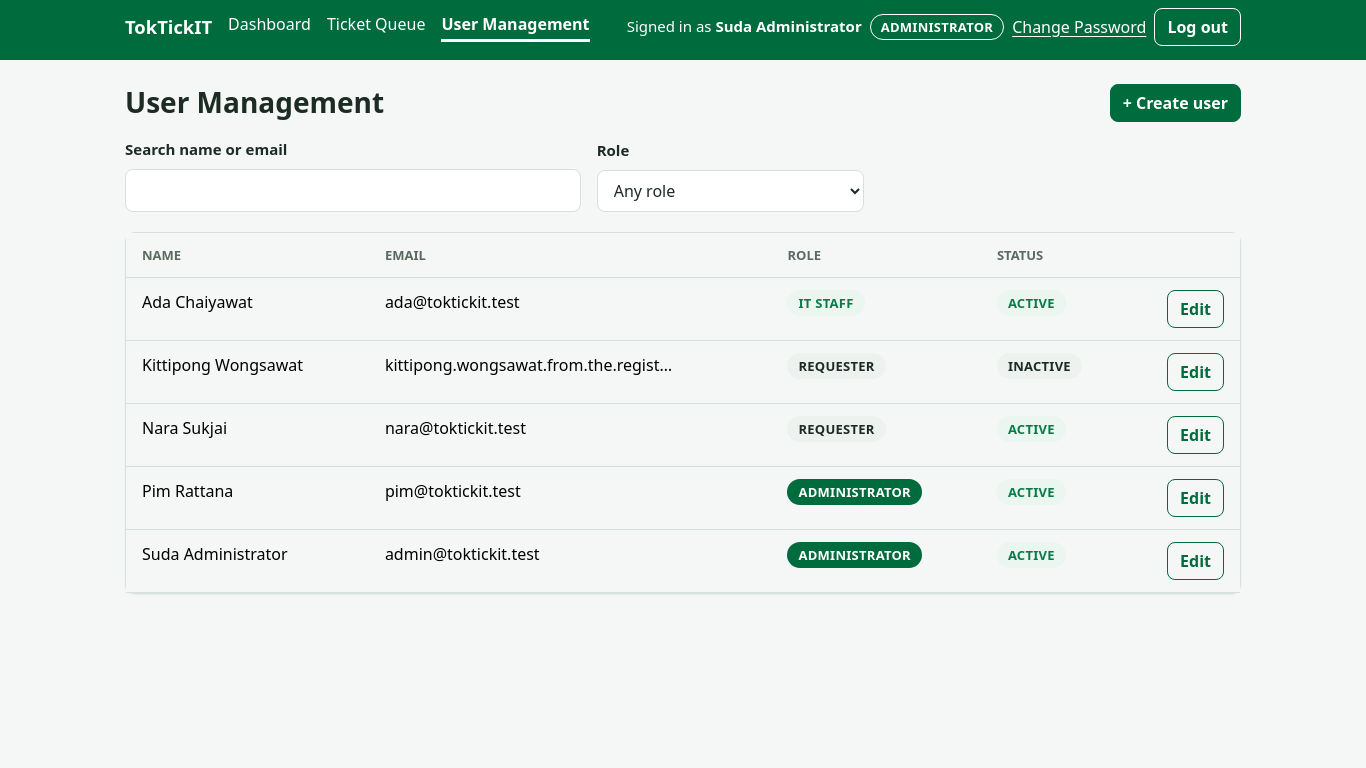
Test: UI-29 the role and activation controls (BR-22, BR-47) › refuses to submit without a role or an activation state, naming both, and sends nothing
Click the button "+ Create user": (1175, 103) [1110,84,1241,122]
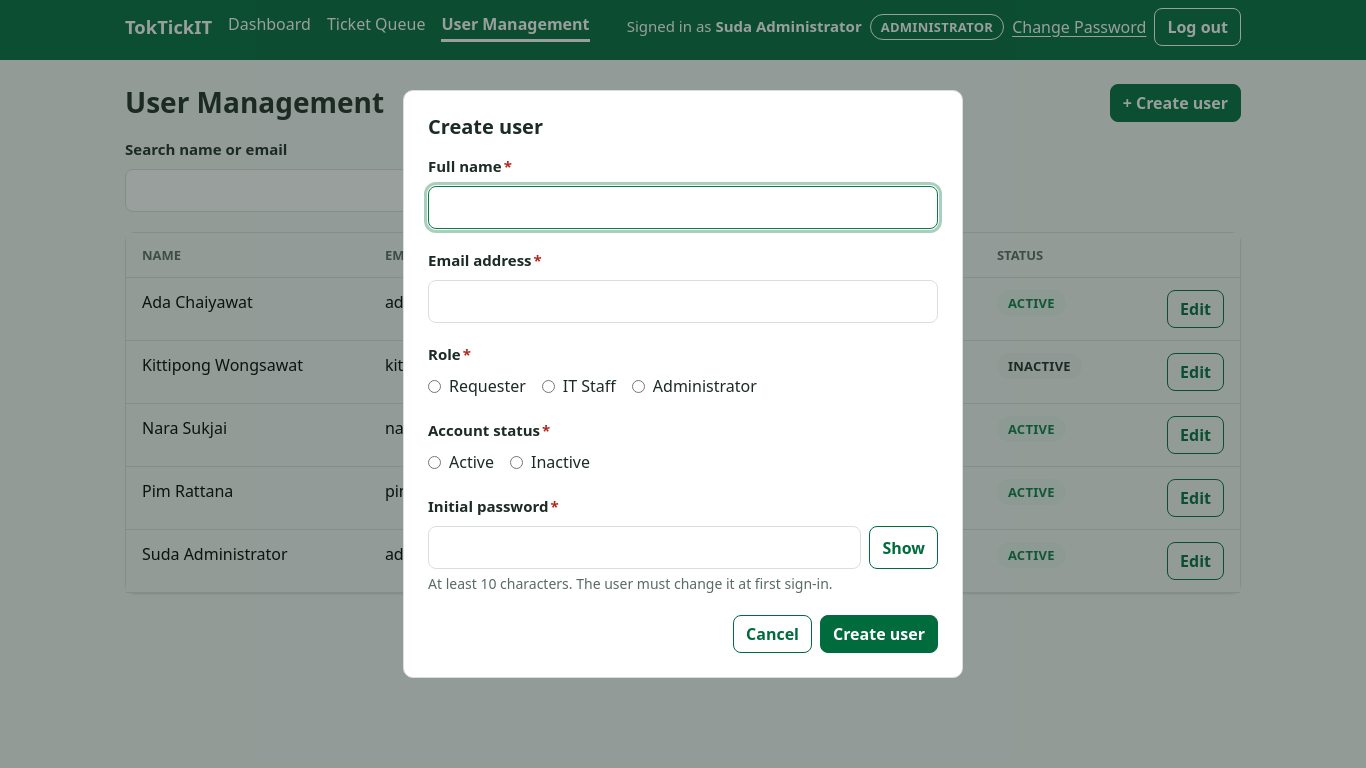
In the field labelled "Full name*": (683, 208) [428,186,938,229], type "Malee Srisuk"
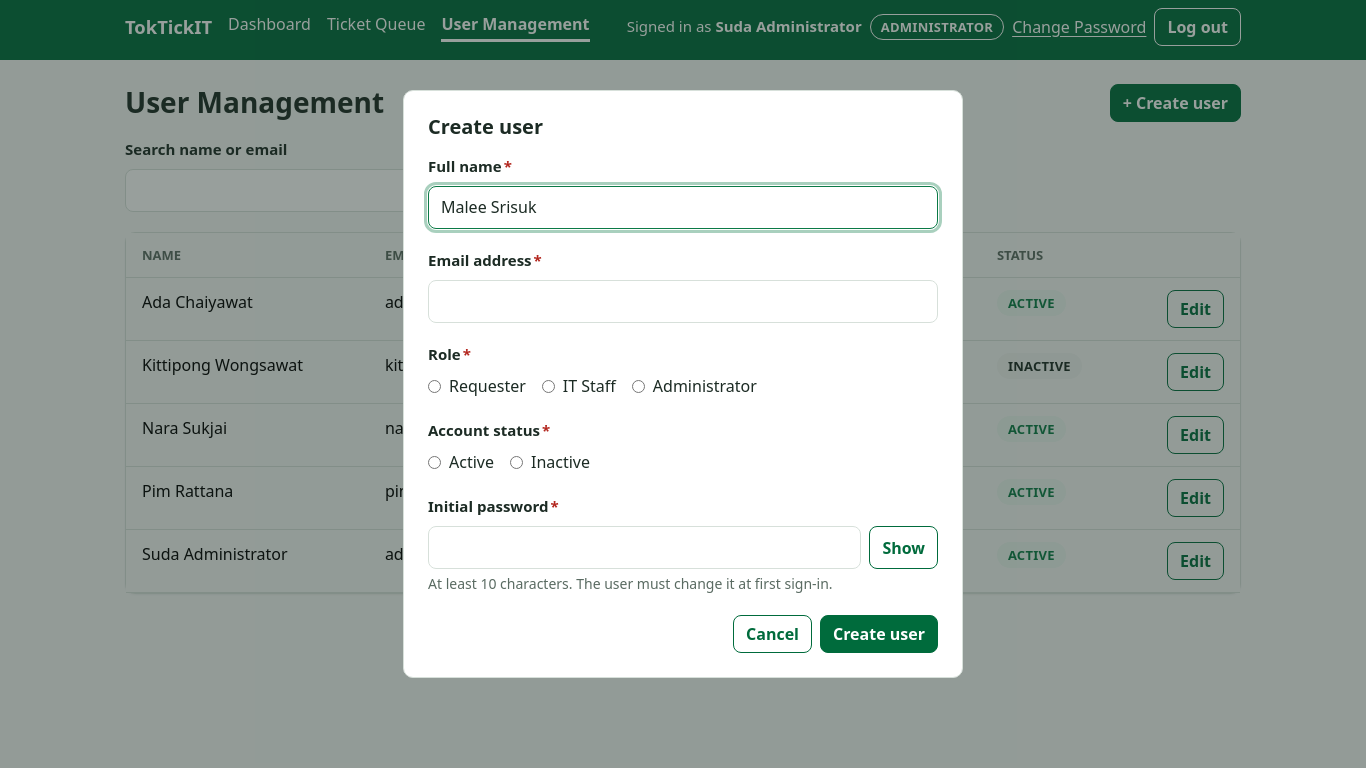
In the field labelled "Email address*": (683, 302) [428,280,938,323], type "Malee.Srisuk@toktickit.test"
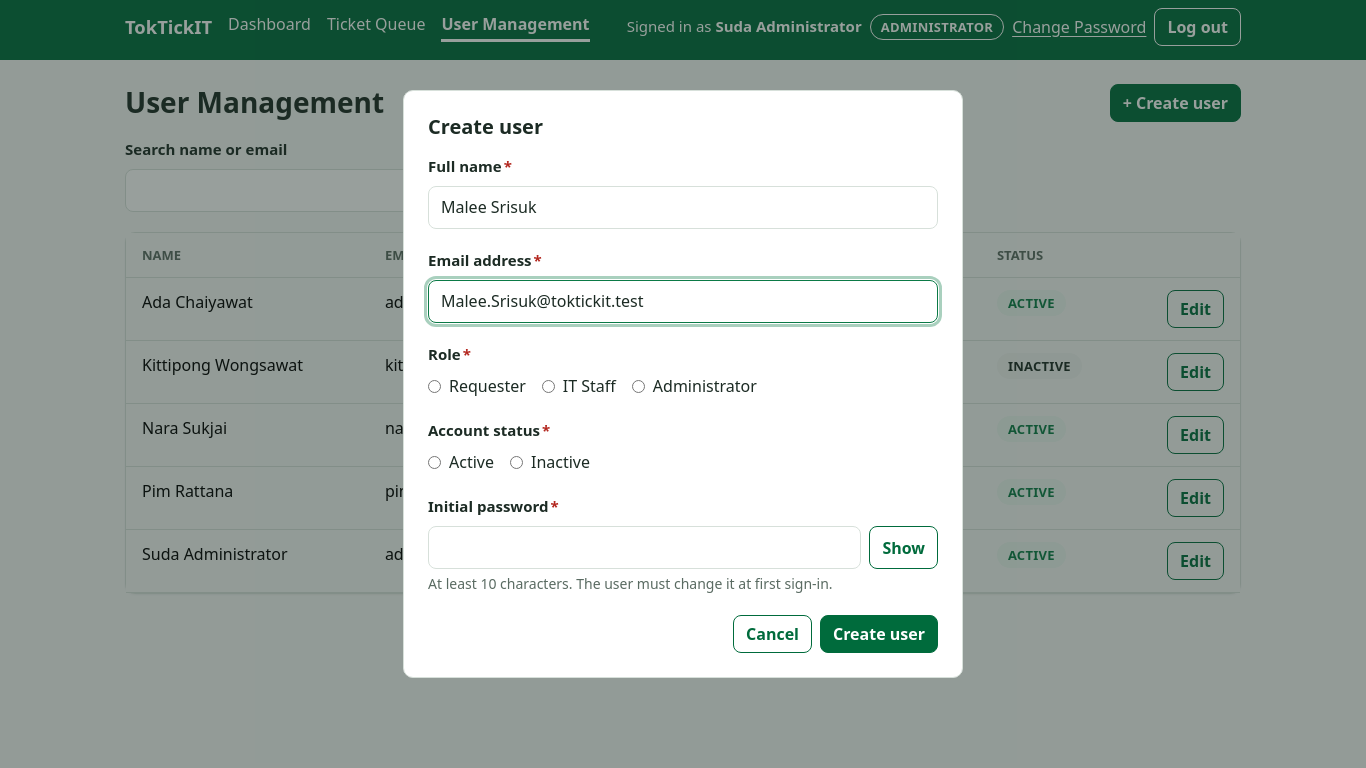
In the password field labelled "Initial password*": (645, 548) [428,526,861,569], type "first-login-2026"
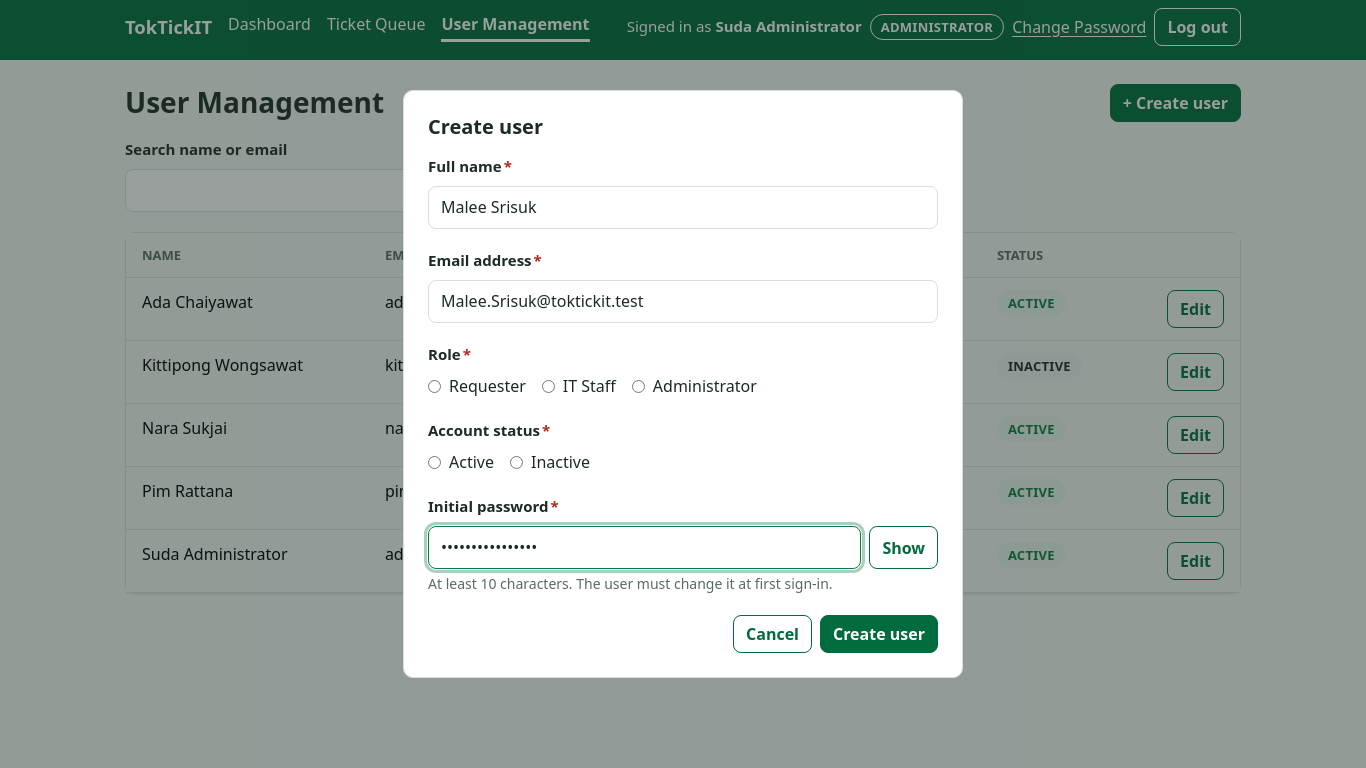
Click the button "Create user": (879, 634) [820,615,938,653]
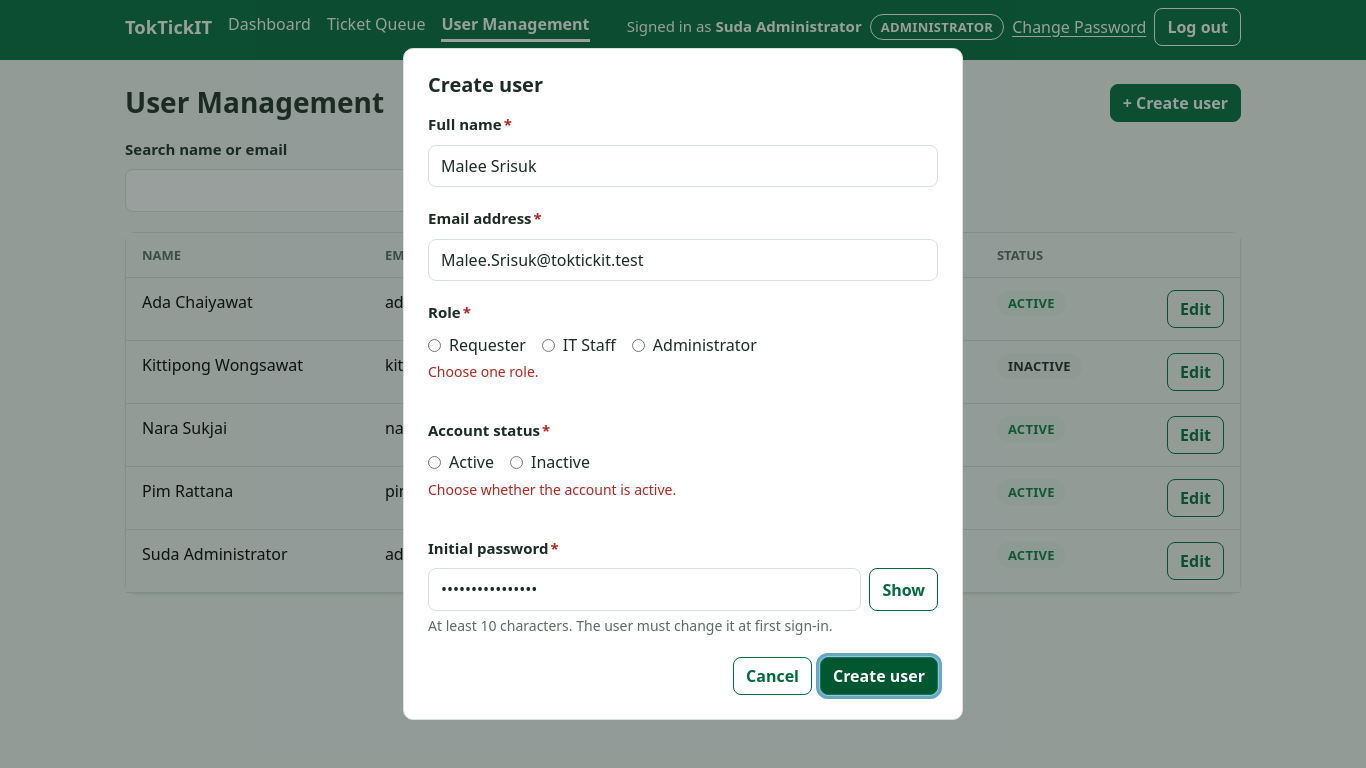
Result: the text "Choose one role." is shown at [428,362,539,382]
Result: the text "Choose whether the account is active." is shown at [428,480,676,499]
